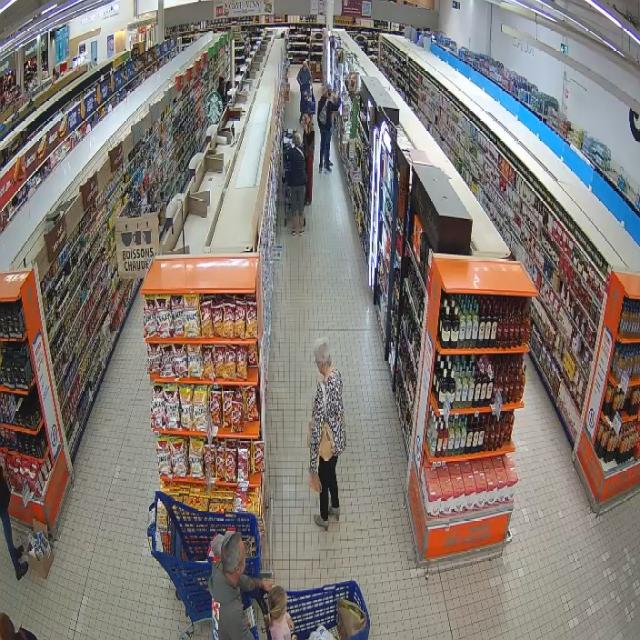bags: (320, 383, 333, 461), (318, 99, 328, 126)
hands: (261, 580, 273, 592), (287, 615, 293, 632), (292, 635, 297, 639)
person: (310, 338, 346, 530), (209, 533, 272, 639), (0, 465, 28, 579), (287, 132, 307, 235), (318, 86, 339, 173), (266, 586, 295, 639), (302, 112, 315, 204)
